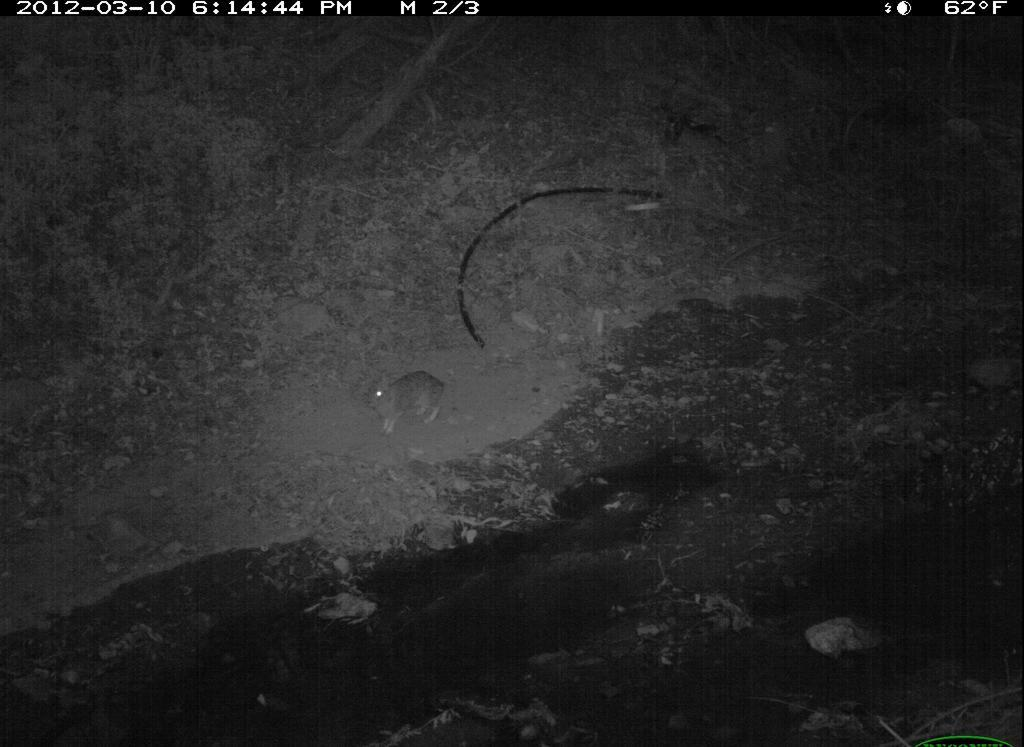rabbit: (353, 358, 455, 433)
